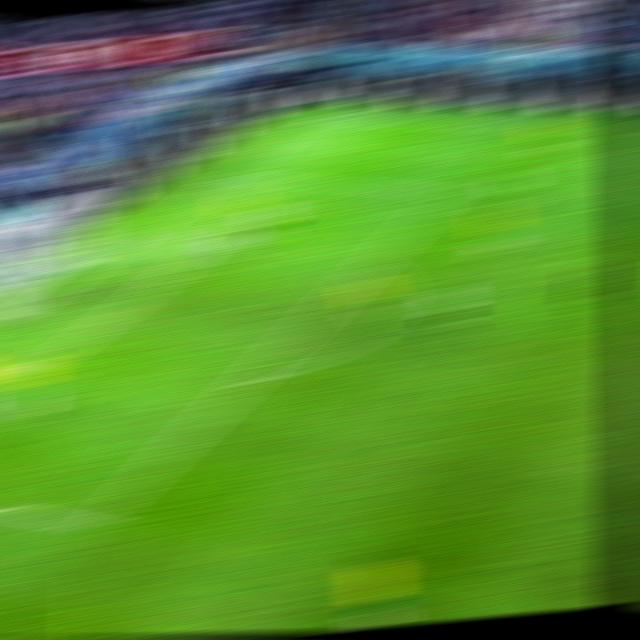bigarea_bottom_inner: (68, 509, 115, 538)
bigarea_top_inner: (430, 181, 469, 200)
bigarea_top_outter: (208, 168, 246, 182)
bottom_arc_area_intersection: (225, 370, 267, 391)
corner: (296, 110, 337, 123)
smallarea_top_inner: (194, 230, 233, 249)
smallarea_top_outter: (121, 224, 160, 242)
top_arc_area_intersection: (349, 257, 386, 274)
